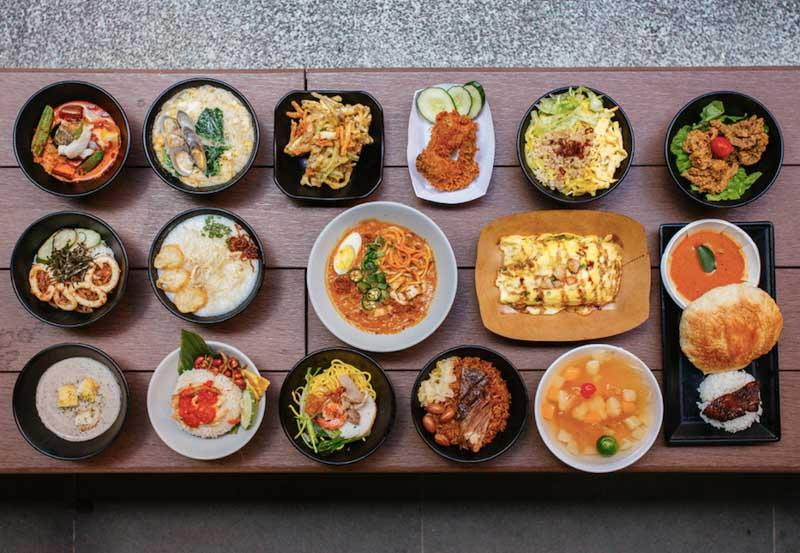Braised Crucian Carp: (655, 223, 780, 445), (475, 209, 649, 343), (305, 200, 452, 351), (535, 344, 663, 472), (146, 339, 267, 458), (515, 85, 634, 205), (662, 91, 783, 209), (11, 79, 130, 198), (410, 345, 529, 463), (277, 346, 396, 464), (8, 210, 127, 327), (11, 342, 130, 459), (142, 78, 259, 197), (147, 208, 263, 323), (271, 89, 385, 204), (405, 87, 494, 203)
